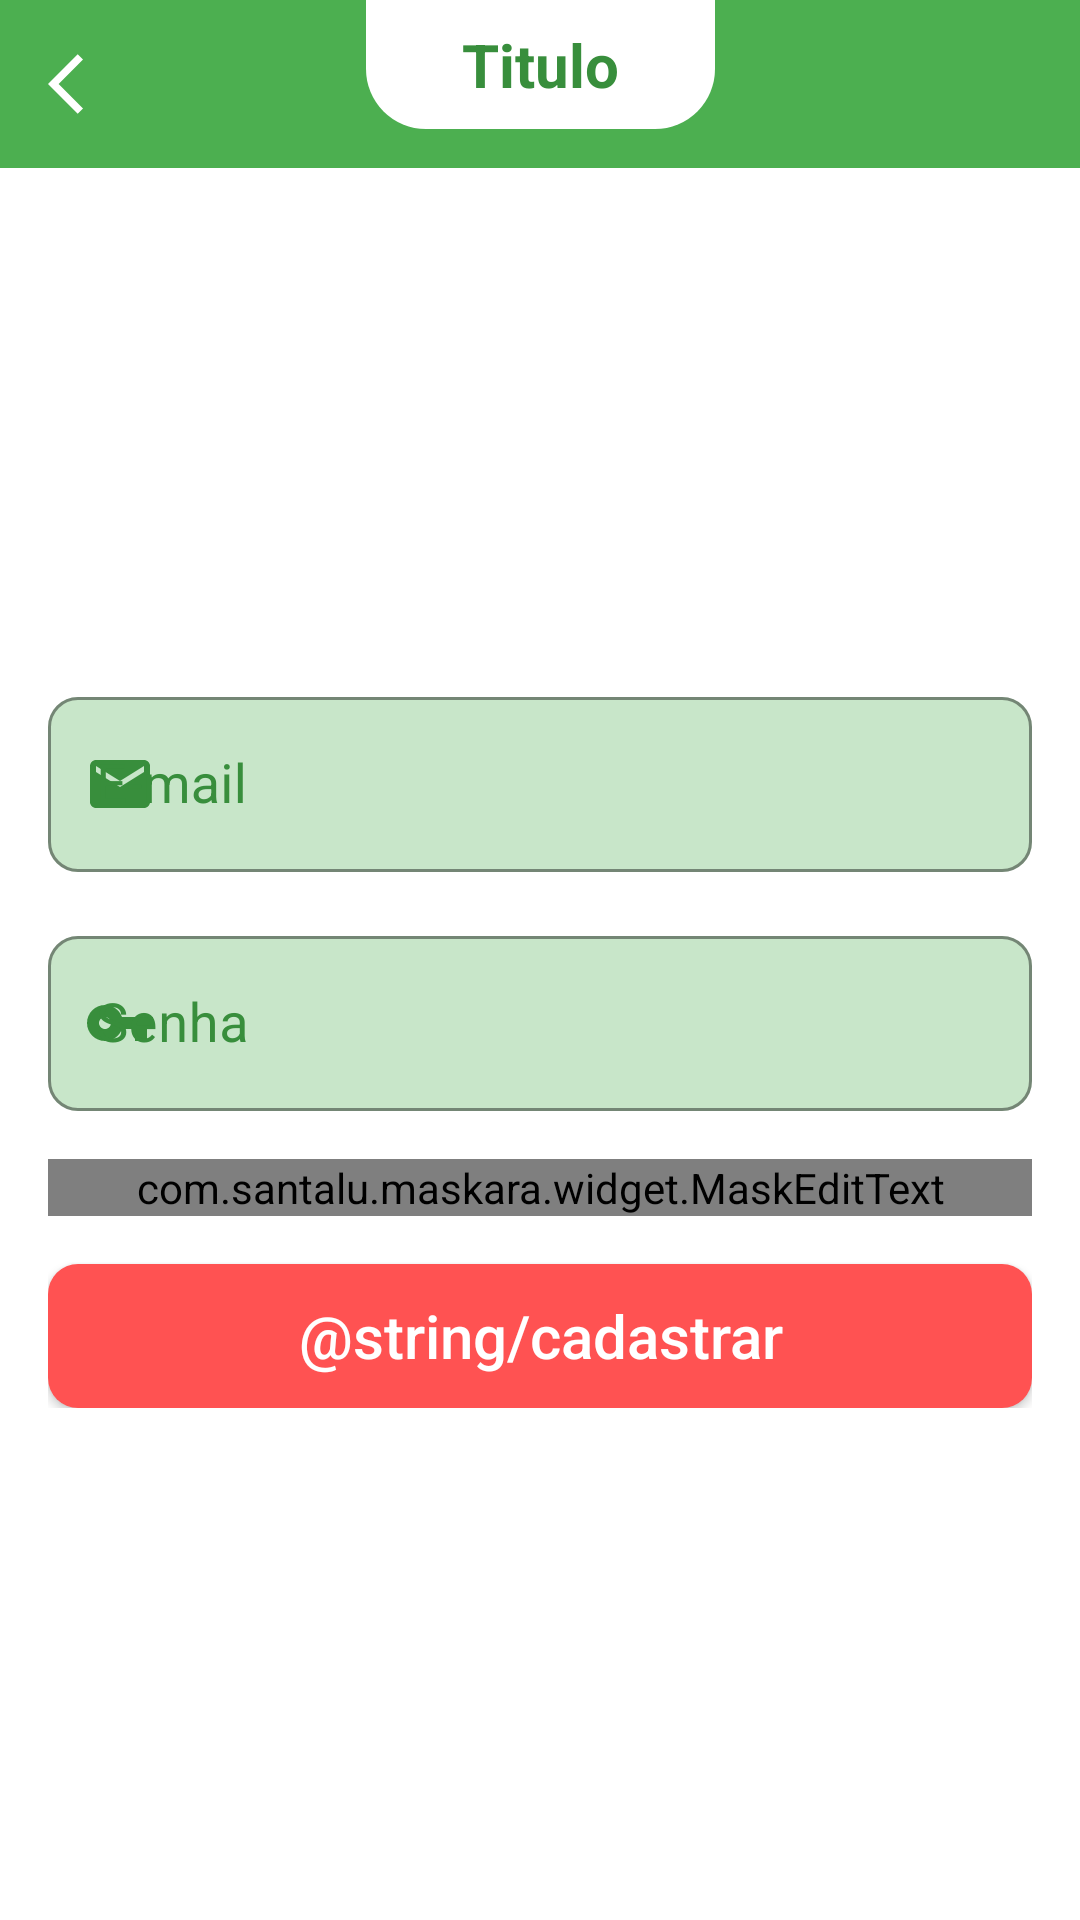

Icon bounding boxes for this 1080×1920 phone screenshot, format (x1, y1, x2, y2):
voltar: (48, 54, 83, 114)
